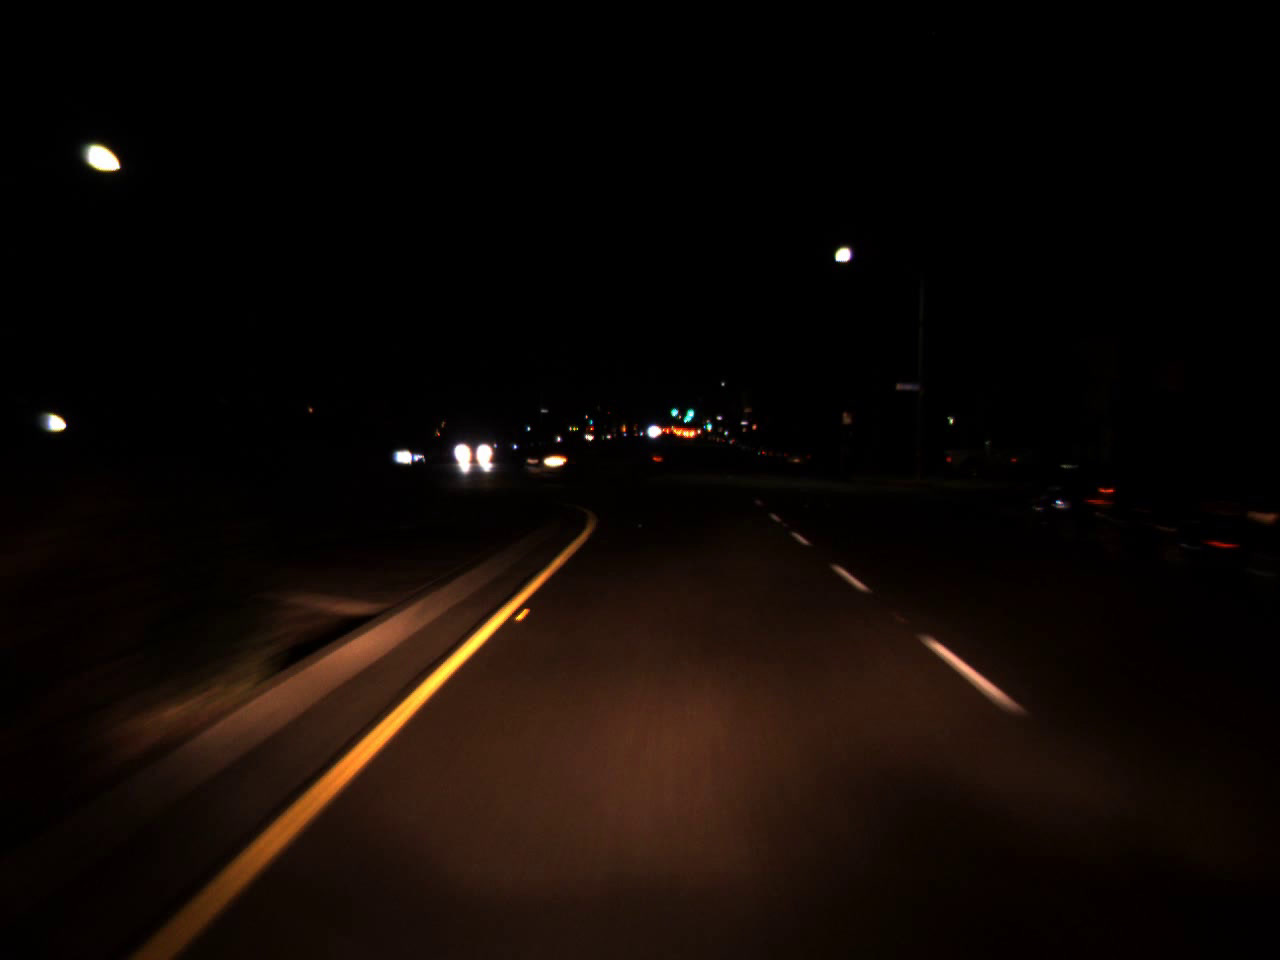go: (679, 398, 695, 425), (670, 401, 677, 419), (703, 416, 712, 431)
